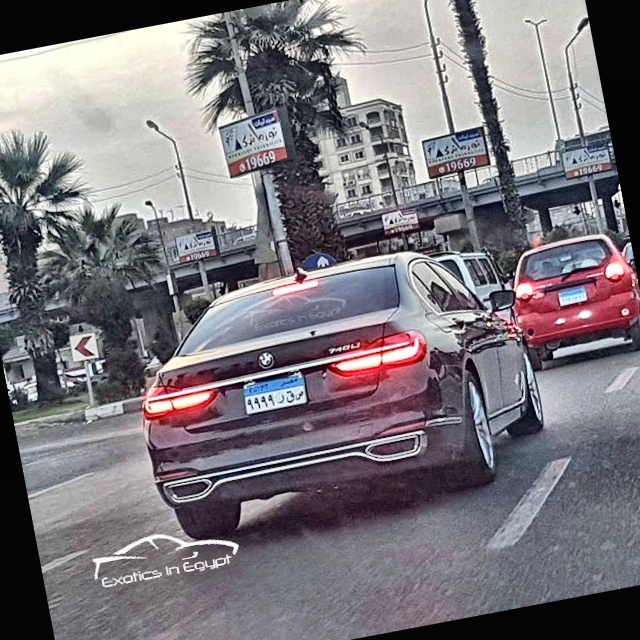License Plate: (238, 368, 311, 418), (555, 284, 590, 309)
